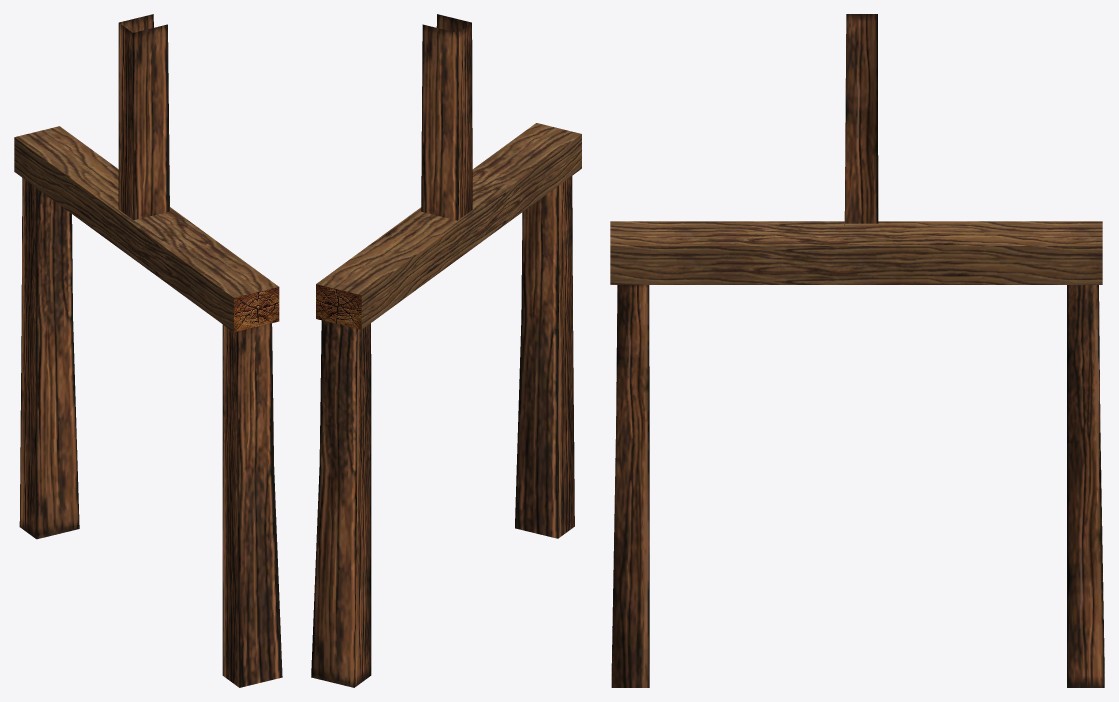
File: LAKETOWN_WAREHOUSE2_PS_WH2_DOORFRAME6546__GX.fbx
The picture shows the model from 3 angles, left to right: view 1: azimuth 30°, elevation 25°; view 2: azimuth 150°, elevation 25°; view 3: azimuth 270°, elevation 25°; orthographic projection. The views are drawn at different scales.
Visible parts, largest first — view 1: LAKETOWN_WAREHOUSE2_PS_WH2_DOORFRAME6546__GX; view 2: LAKETOWN_WAREHOUSE2_PS_WH2_DOORFRAME6546__GX; view 3: LAKETOWN_WAREHOUSE2_PS_WH2_DOORFRAME6546__GX.
Part boxes in pixels (bbox=[...]): LAKETOWN_WAREHOUSE2_PS_WH2_DOORFRAME6546__GX: bbox=[14, 14, 282, 687]; LAKETOWN_WAREHOUSE2_PS_WH2_DOORFRAME6546__GX: bbox=[311, 14, 581, 687]; LAKETOWN_WAREHOUSE2_PS_WH2_DOORFRAME6546__GX: bbox=[610, 14, 1104, 687].
Bounding box in the file's own units: 4392 × 49345 × 34050.
Materials: 3 (3 with a texture image).
